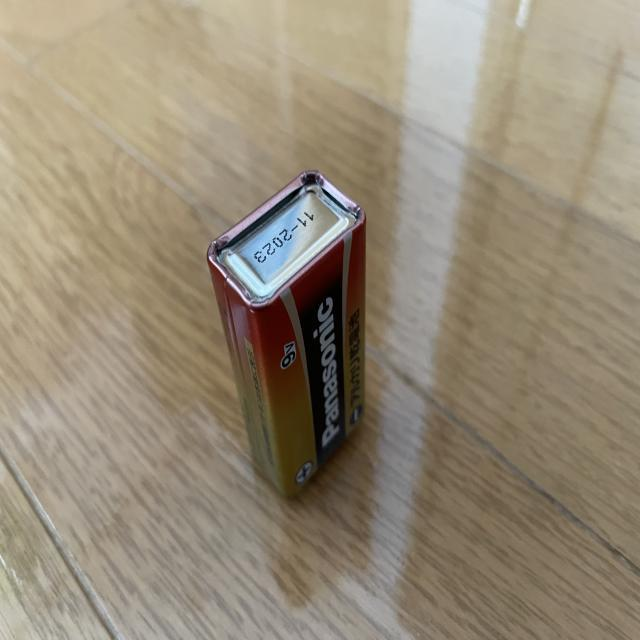9V: (206, 169, 366, 502)
